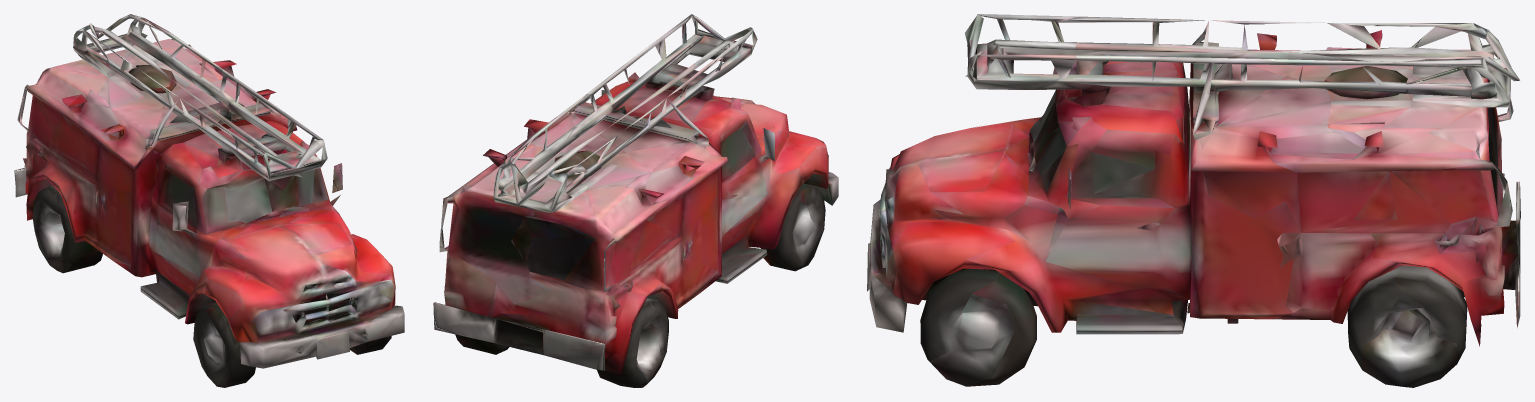
File: fire-engine.glb
The picture shows the model from 3 angles, left to right: view 1: azimuth 30°, elevation 25°; view 2: azimuth 150°, elevation 25°; view 3: azimuth 270°, elevation 25°; orthographic projection. The views are drawn at different scales.
Visible parts, largest first — view 1: tripo_node_38ce8ad3-3dc8-4a8b-9d5f-b6729794d83b; view 2: tripo_node_38ce8ad3-3dc8-4a8b-9d5f-b6729794d83b; view 3: tripo_node_38ce8ad3-3dc8-4a8b-9d5f-b6729794d83b.
Boxes of the visible parts, left/top/right/bottom form: tripo_node_38ce8ad3-3dc8-4a8b-9d5f-b6729794d83b: left=14, top=14, right=404, bottom=387; tripo_node_38ce8ad3-3dc8-4a8b-9d5f-b6729794d83b: left=433, top=14, right=838, bottom=387; tripo_node_38ce8ad3-3dc8-4a8b-9d5f-b6729794d83b: left=867, top=14, right=1520, bottom=387.
Bounding box in the file's own units: 0.4299 × 0.5106 × 1.
1 material, 1 textured.
